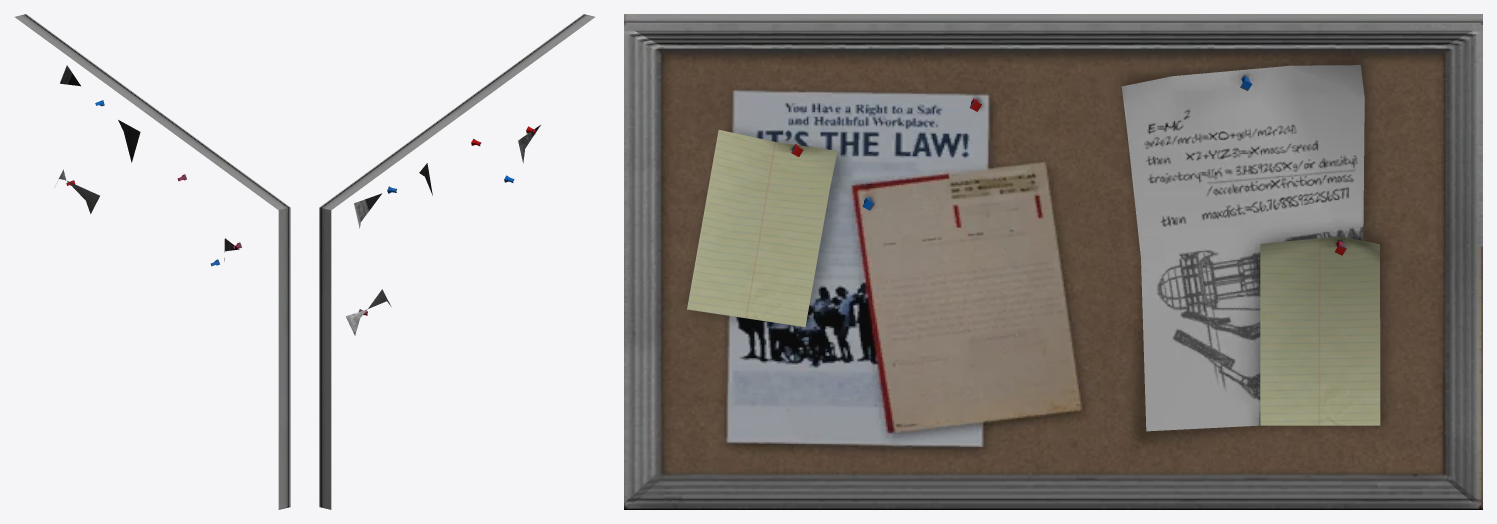
The picture shows the model from 3 angles, left to right: view 1: azimuth 30°, elevation 25°; view 2: azimuth 150°, elevation 25°; view 3: azimuth 270°, elevation 25°; orthographic projection. The views are drawn at different scales.
Visible parts, largest first — view 1: body0_model0_lod0_mesh0; view 2: body0_model0_lod0_mesh0; view 3: body0_model0_lod0_mesh0.
Boxes of the visible parts, <box> form: body0_model0_lod0_mesh0: <box>15,14,290,509</box>; body0_model0_lod0_mesh0: <box>319,14,594,509</box>; body0_model0_lod0_mesh0: <box>624,14,1482,509</box>.
Bounding box in the file's own units: 3.05 × 50 × 80.
1 material, 1 textured.
